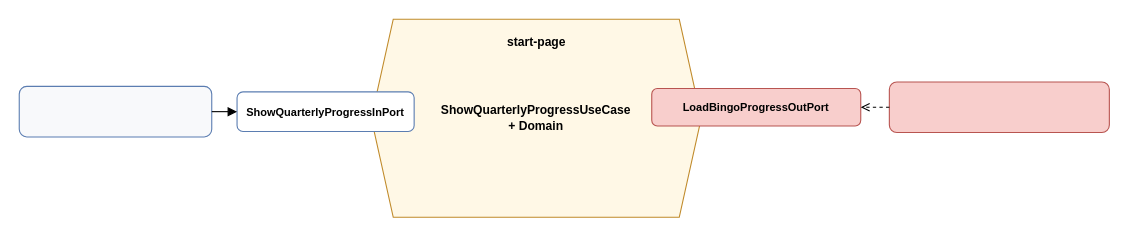
Image size: 1129x237. Some labels were removed from this diagram. Each missing label, with the centre of its shape:
LocalStorageBingoGameRepository: (x=998, y=107)
StartPageComponent: (x=115, y=111)
